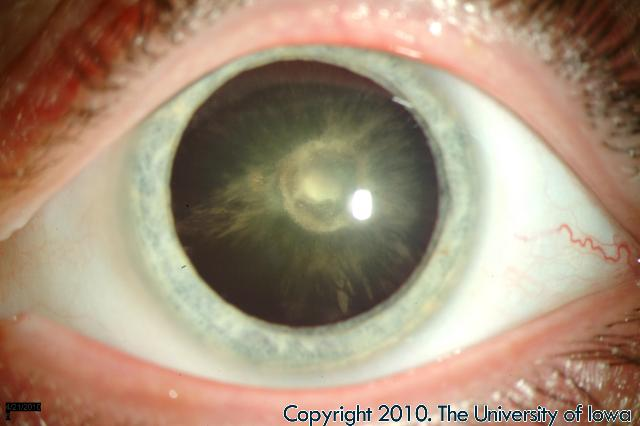eye: (122, 47, 492, 387)
